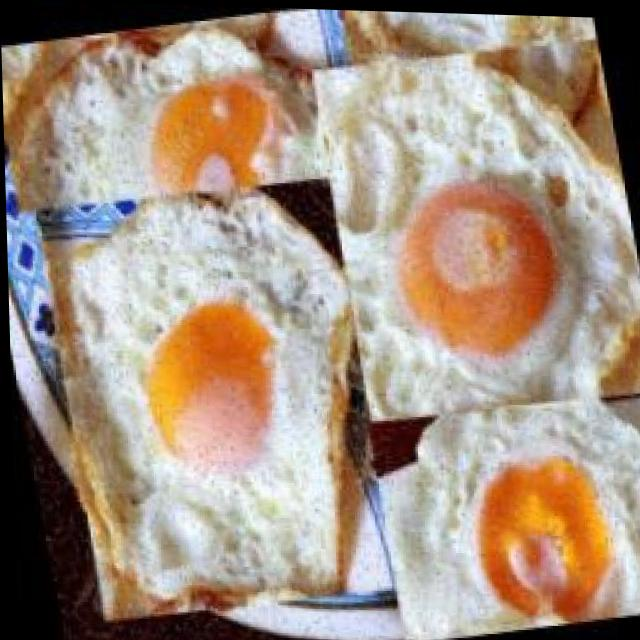fried_eggs: (23, 140, 408, 634), (302, 22, 640, 430), (0, 0, 375, 224), (360, 373, 640, 640)
